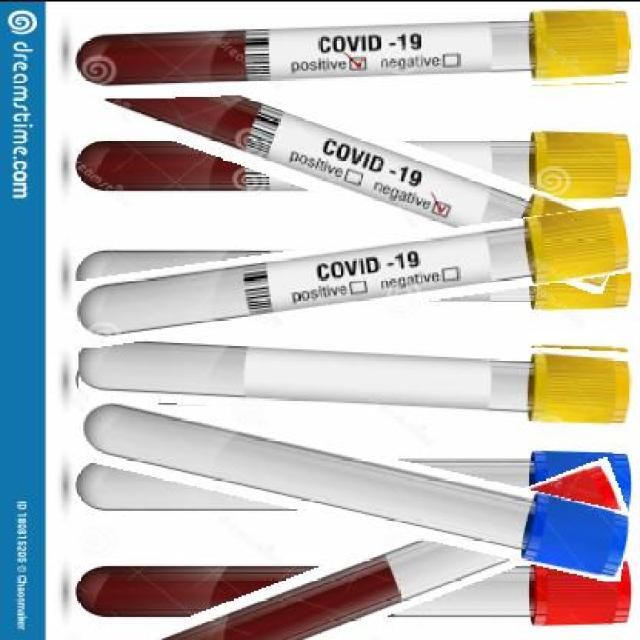Experimental-tube: (77, 80, 629, 248), (80, 504, 634, 638), (75, 418, 632, 551), (71, 222, 632, 328), (78, 331, 632, 418), (73, 8, 630, 94)
